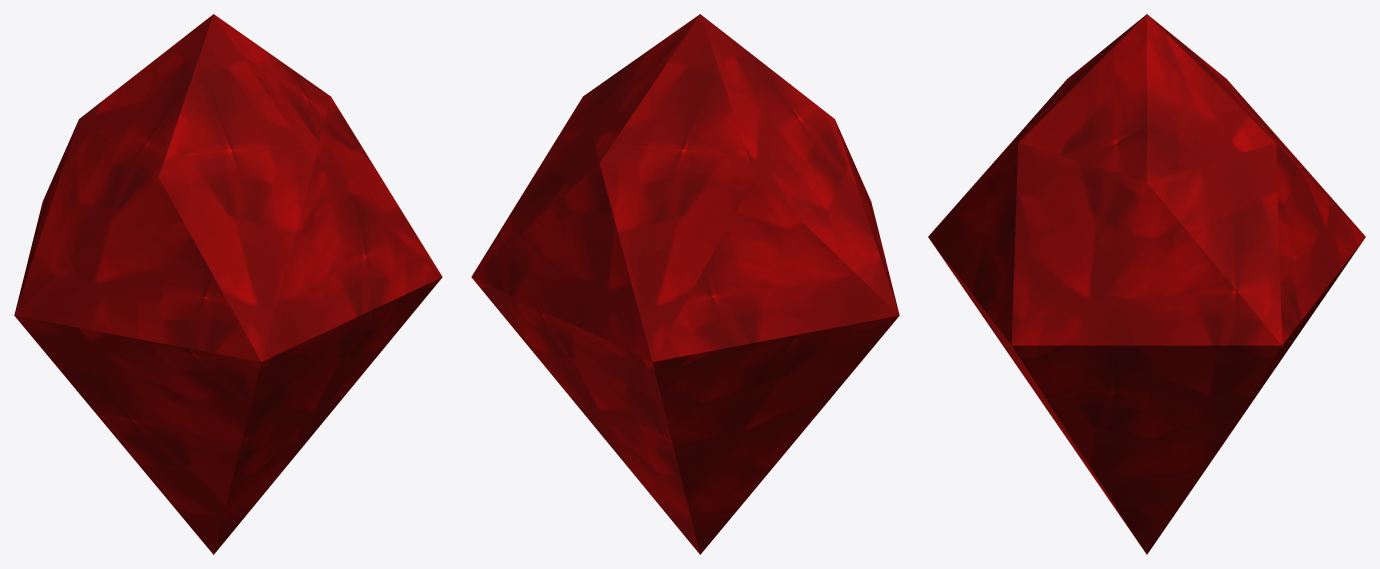
The model's file is gem.fbx.
The picture shows the model from 3 angles, left to right: view 1: azimuth 30°, elevation 25°; view 2: azimuth 150°, elevation 25°; view 3: azimuth 270°, elevation 25°; orthographic projection.
Visible parts, largest first — view 1: Icosphere; view 2: Icosphere; view 3: Icosphere.
Part boxes in pixels (<box>): Icosphere: <box>14,14,442,554</box>; Icosphere: <box>471,14,899,554</box>; Icosphere: <box>928,14,1365,554</box>.
Bounding box in the file's own units: 0.1388 × 0.1988 × 0.1459.
Materials: 1 (1 with a texture image).
